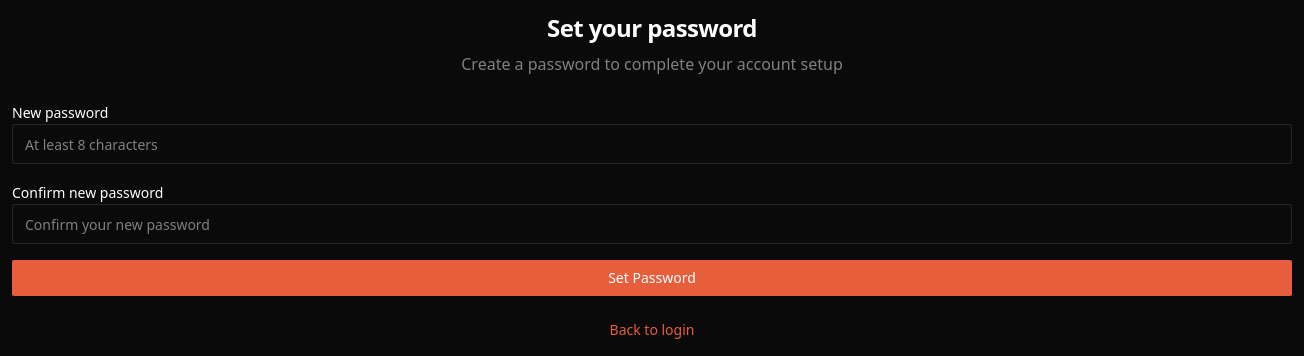
ResetPasswordPage › invited user flow (invited=true param) › shows 'Setting up...' on button while submitting
Type "newpassword123" into the password field labelled "New password" at {"x": 652, "y": 144}, box [12,124,1292,164]
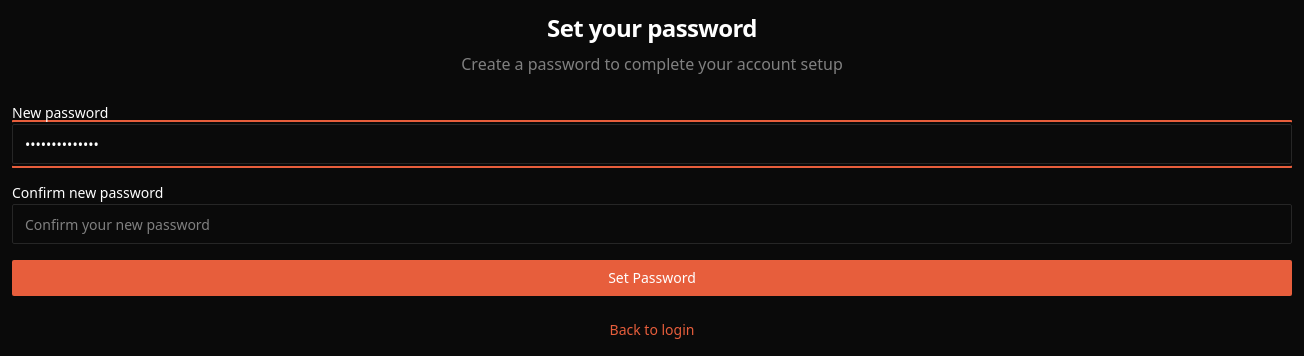
Type "newpassword123" into the password field labelled "Confirm new password" at {"x": 652, "y": 224}, box [12,204,1292,244]
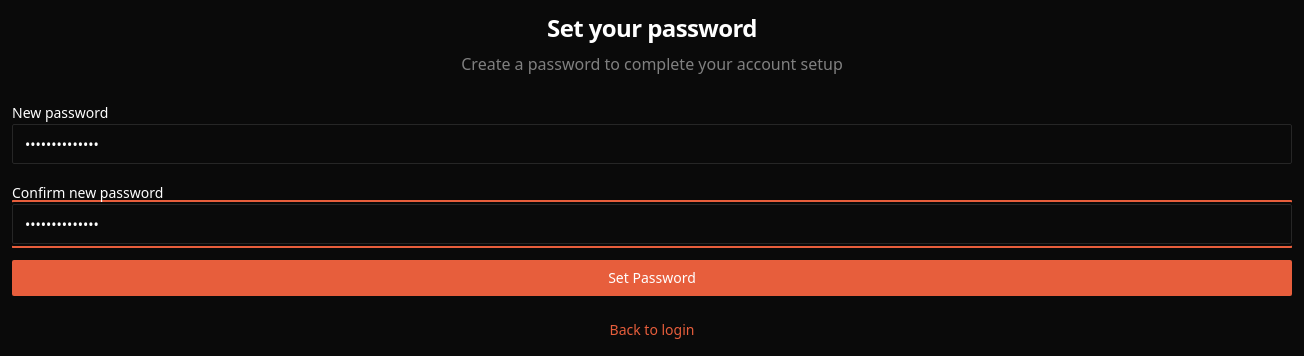
Click the button "Set Password" at {"x": 652, "y": 278}, box [12,260,1292,296]
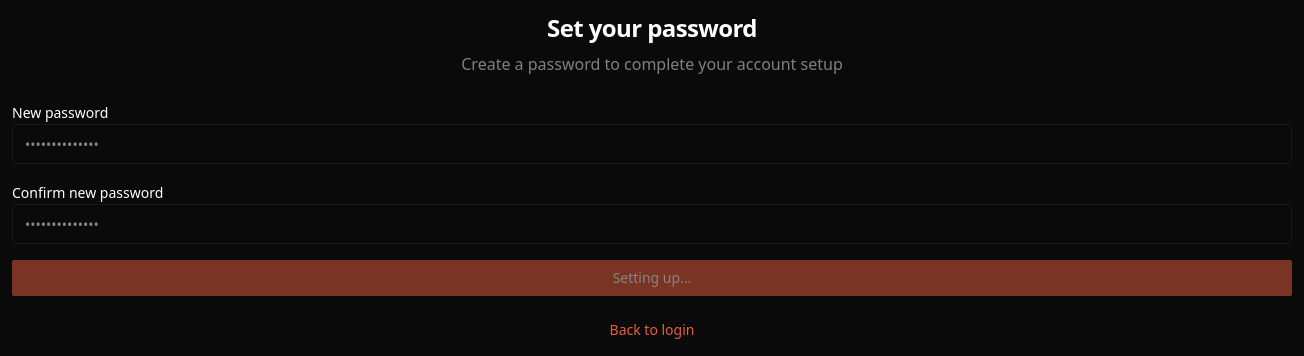
Now the button "Setting up..." is disabled, box [12,260,1292,296]
